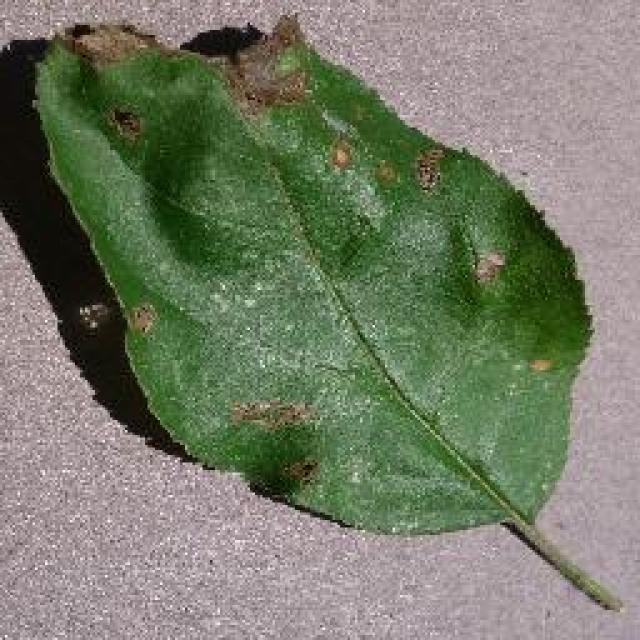Black_rot: (30, 12, 622, 612)
